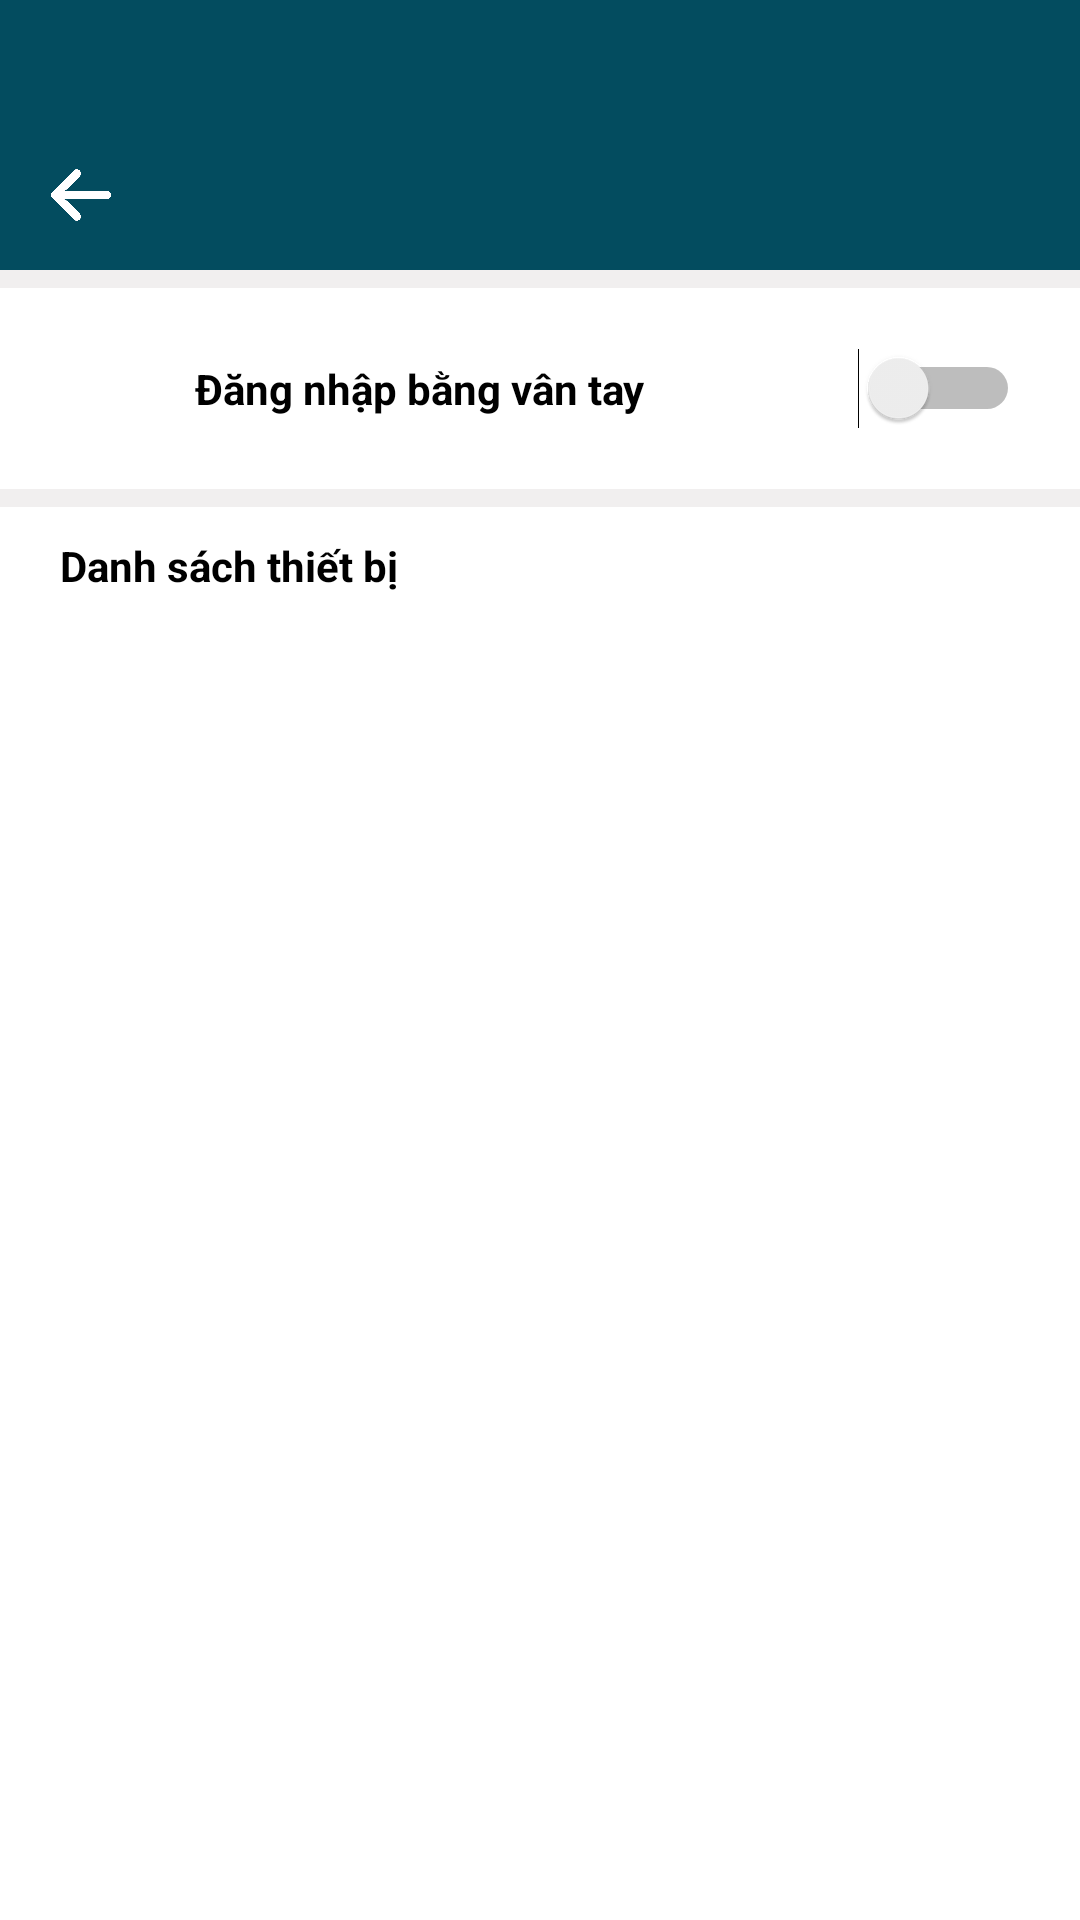

Icon click points for this 1080 × 1920 phone screenshot, format (x,y):
arrow: (81,195)
